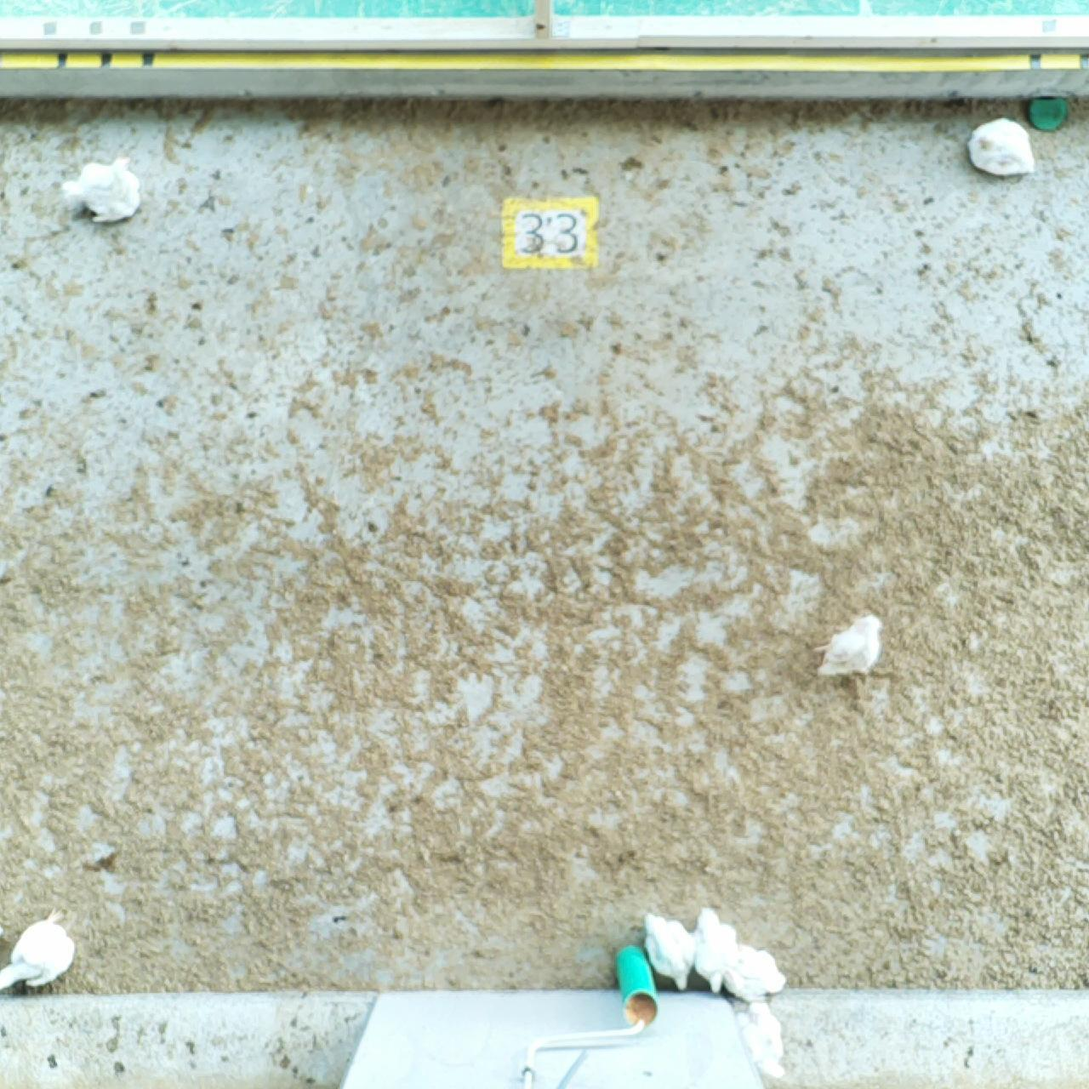chicken: (1, 904, 78, 989), (58, 153, 142, 224), (811, 611, 887, 678), (641, 912, 698, 992), (965, 117, 1037, 178), (721, 939, 789, 1003), (738, 1000, 789, 1083), (693, 905, 739, 992)
